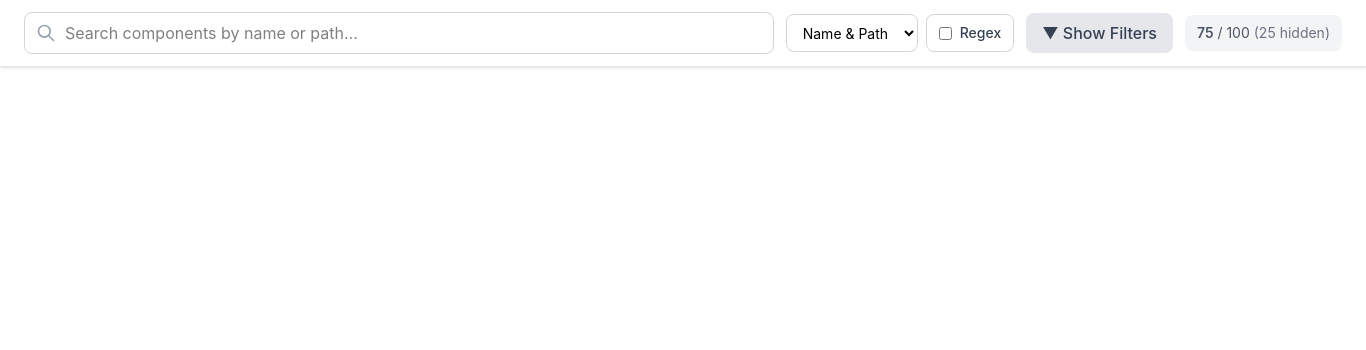
Scenario: SearchAndFilter › フィルターの展開/折りたたみ › Hide Filtersボタンをクリックするとフィルターが非表示になる
The image size is (1366, 350).
Click the button "▼ Show Filters". click: point(1100, 33)
box: [1026, 13, 1173, 53]
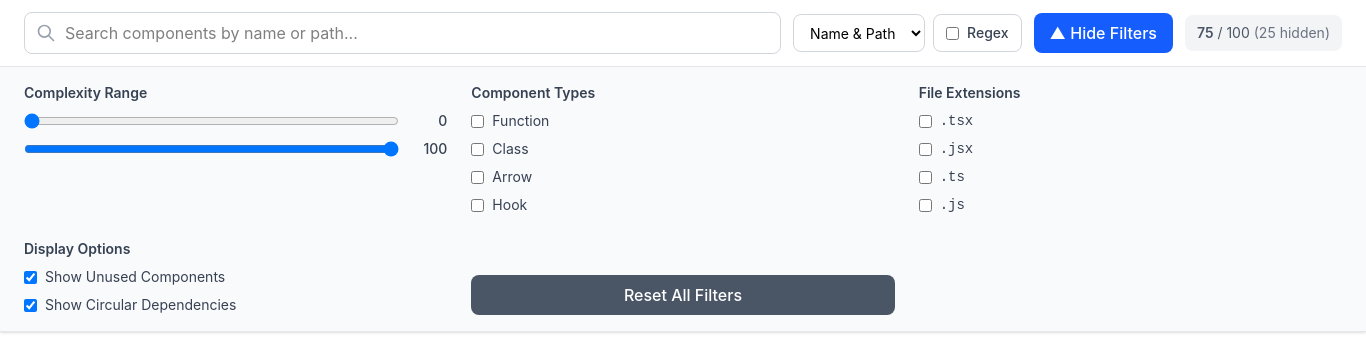
Click the button "▲ Hide Filters". click: point(1103, 33)
box: [1034, 13, 1173, 53]
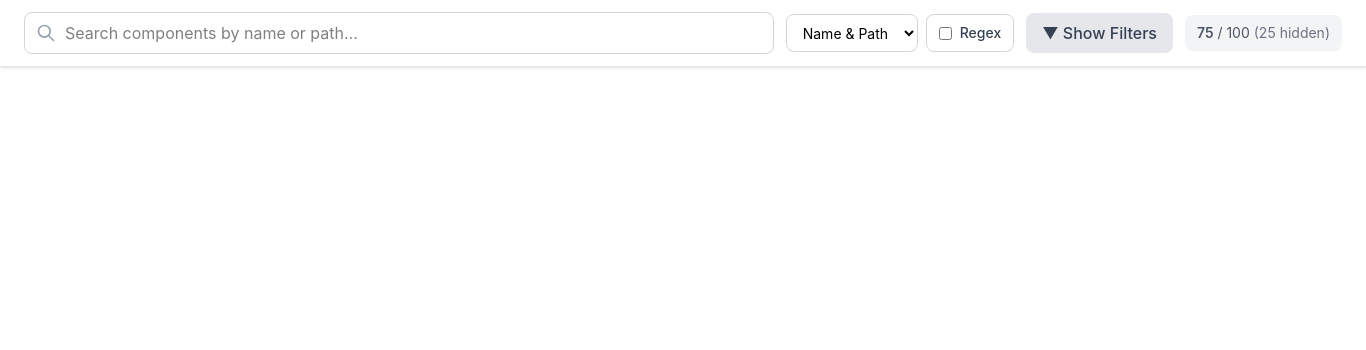
Expected: the text "Complexity Range" is gone
Expected: the button "▼ Show Filters" is shown, [1026, 13, 1173, 53]
